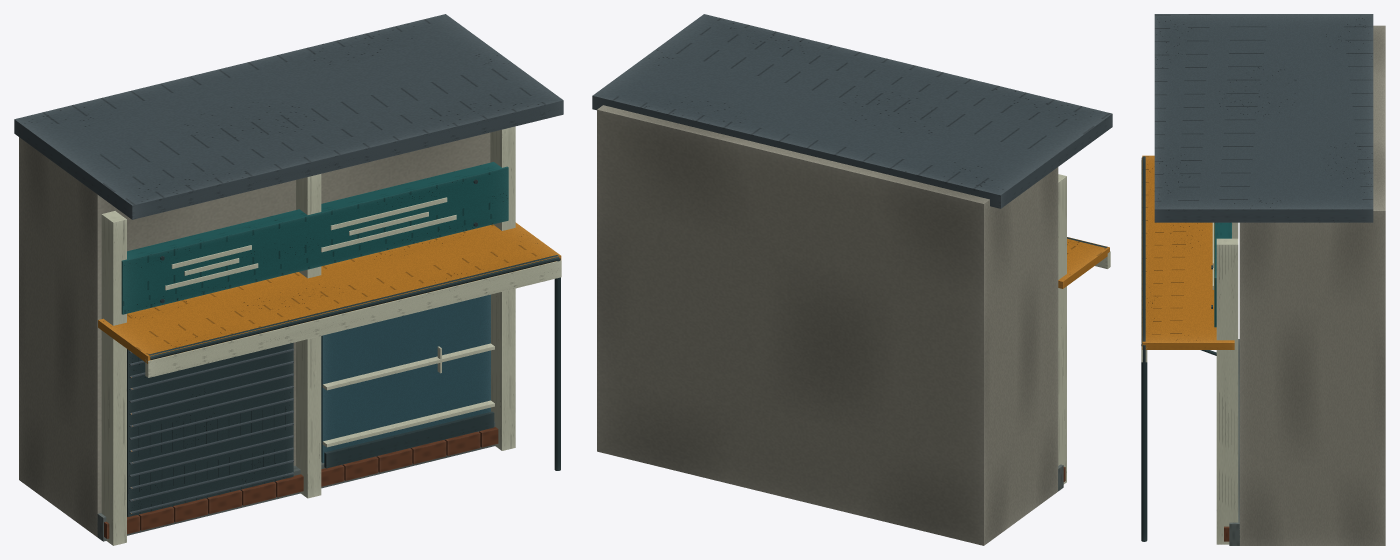
Rendered from shopfront_module.fbx.
The picture shows the model from 3 angles, left to right: view 1: azimuth 30°, elevation 25°; view 2: azimuth 150°, elevation 25°; view 3: azimuth 270°, elevation 25°; orthographic projection. The views are drawn at different scales.
Parts seen in each view (by area): view 1: shopfront_module__balcony_ledge, shopfront_module__body, shopfront_module__store_sign, shopfront_module__awning, shopfront_module__rollerdoor, shopfront_module__displaywindow, shopfront_module__shop_pier, shopfront_module__canopy_lip, shopfront_module__shop_pier.002, shopfront_module__shop_pier.001, shopfront_module__kick_plate, shopfront_module__gutter (+5 smaller); view 2: shopfront_module__body, shopfront_module__balcony_ledge, shopfront_module__shop_pier, shopfront_module__awning; view 3: shopfront_module__body, shopfront_module__balcony_ledge, shopfront_module__awning, shopfront_module__shop_pier.002, shopfront_module__gutter.001, shopfront_module__gutter, shopfront_module__base, shopfront_module__store_sign.
Part boxes in pixels (left/top/right/bottom): shopfront_module__balcony_ledge: left=14, top=14, right=563, bottom=219; shopfront_module__body: left=19, top=132, right=490, bottom=536; shopfront_module__store_sign: left=121, top=162, right=508, bottom=314; shopfront_module__awning: left=98, top=222, right=561, bottom=363; shopfront_module__rollerdoor: left=127, top=342, right=293, bottom=516; shopfront_module__displaywindow: left=321, top=294, right=490, bottom=462; shopfront_module__shop_pier: left=101, top=211, right=126, bottom=545; shopfront_module__canopy_lip: left=145, top=260, right=561, bottom=377; shopfront_module__shop_pier.002: left=490, top=126, right=515, bottom=450; shopfront_module__shop_pier.001: left=296, top=174, right=321, bottom=498; shopfront_module__kick_plate: left=324, top=411, right=494, bottom=468; shopfront_module__gutter: left=148, top=255, right=559, bottom=360; shopfront_module__body: left=597, top=105, right=1058, bottom=545; shopfront_module__balcony_ledge: left=592, top=14, right=1112, bottom=208; shopfront_module__shop_pier: left=1058, top=174, right=1066, bottom=484; shopfront_module__awning: left=1058, top=237, right=1109, bottom=288; shopfront_module__body: left=1239, top=25, right=1385, bottom=545; shopfront_module__balcony_ledge: left=1154, top=14, right=1373, bottom=222; shopfront_module__awning: left=1142, top=155, right=1234, bottom=349; shopfront_module__shop_pier.002: left=1216, top=238, right=1238, bottom=544; shopfront_module__gutter.001: left=1141, top=344, right=1147, bottom=541; shopfront_module__gutter: left=1141, top=156, right=1145, bottom=343; shopfront_module__base: left=1229, top=339, right=1239, bottom=545; shopfront_module__store_sign: left=1214, top=222, right=1231, bottom=327.
Bounding box in the file's own units: 950 × 775 × 502.
9 materials, 9 textured.
